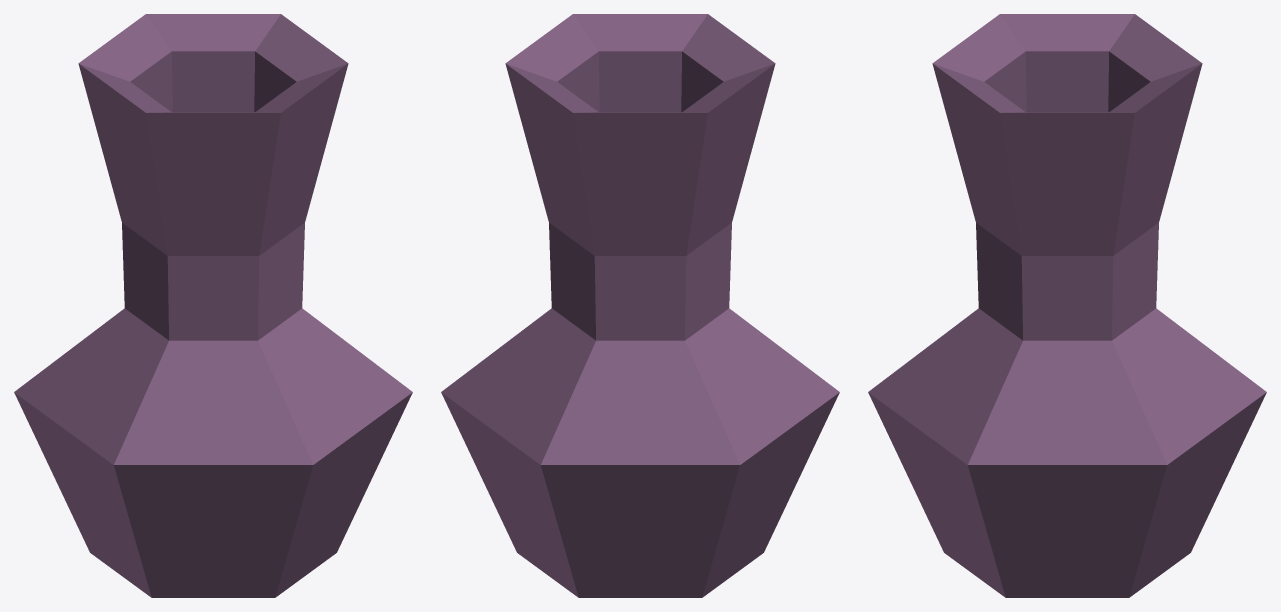
File: Vase_01.fbx
The picture shows the model from 3 angles, left to right: view 1: azimuth 30°, elevation 25°; view 2: azimuth 150°, elevation 25°; view 3: azimuth 270°, elevation 25°; orthographic projection.
Parts seen in each view (by area): view 1: Vase_01; view 2: Vase_01; view 3: Vase_01.
Boxes of the visible parts, x1,y1,x2,y2 form: Vase_01: (14, 14, 412, 597); Vase_01: (441, 14, 839, 597); Vase_01: (868, 14, 1266, 597).
Size of the model in its own units: 128 by 200 by 148.
